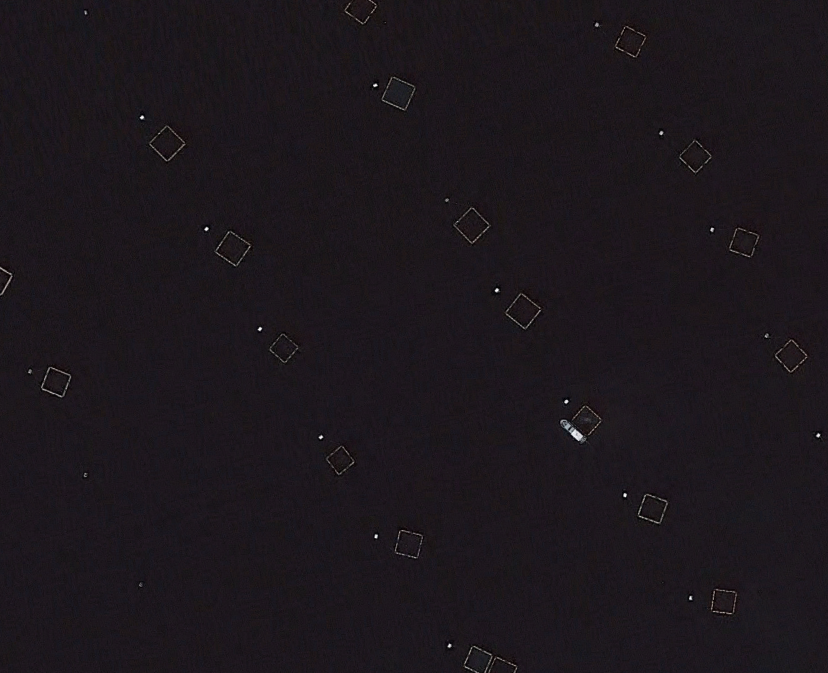ship: (557, 415, 587, 444)
square: (564, 395, 611, 444), (385, 520, 432, 567), (208, 222, 252, 272), (502, 287, 545, 336), (674, 131, 719, 177), (630, 486, 671, 532), (264, 331, 308, 373), (378, 66, 418, 112), (320, 438, 361, 482), (771, 331, 811, 376), (145, 119, 188, 160), (35, 361, 79, 401), (723, 223, 763, 263), (612, 19, 651, 58), (706, 579, 742, 619), (454, 206, 490, 245)
